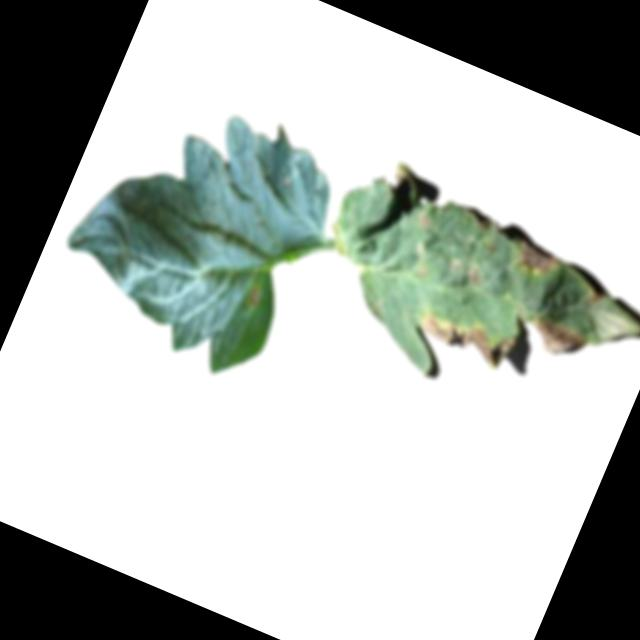Early_blight: (414, 304, 516, 375), (521, 310, 590, 364), (505, 235, 564, 283), (466, 264, 488, 288), (244, 285, 265, 309), (585, 288, 604, 308)
